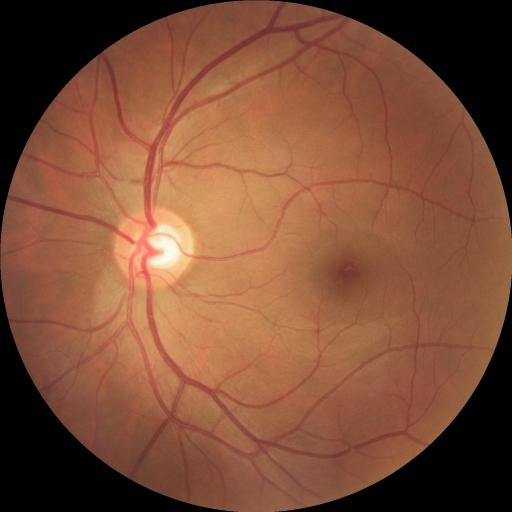Optic Cup: (141, 225, 181, 270)
Optic Disc: (114, 208, 194, 289)
